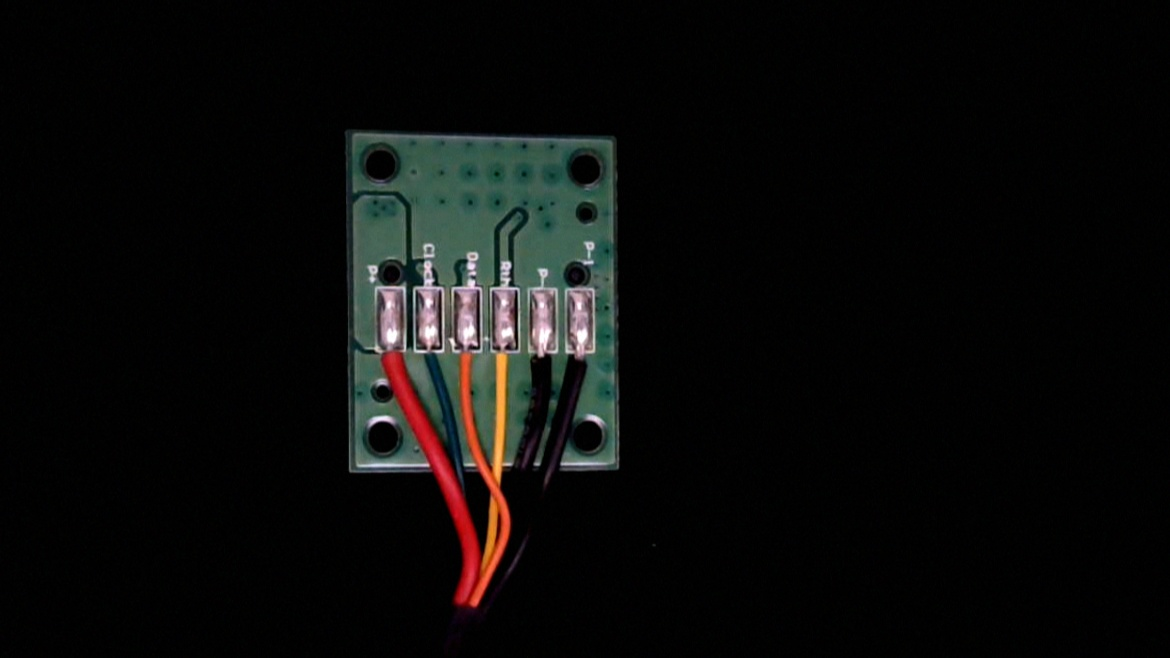Black: (526, 340, 558, 409)
Black1: (566, 338, 596, 403)
Green: (414, 334, 446, 395)
Orange: (451, 336, 482, 407)
Red: (374, 334, 408, 395)
Yellow: (486, 338, 522, 407)
